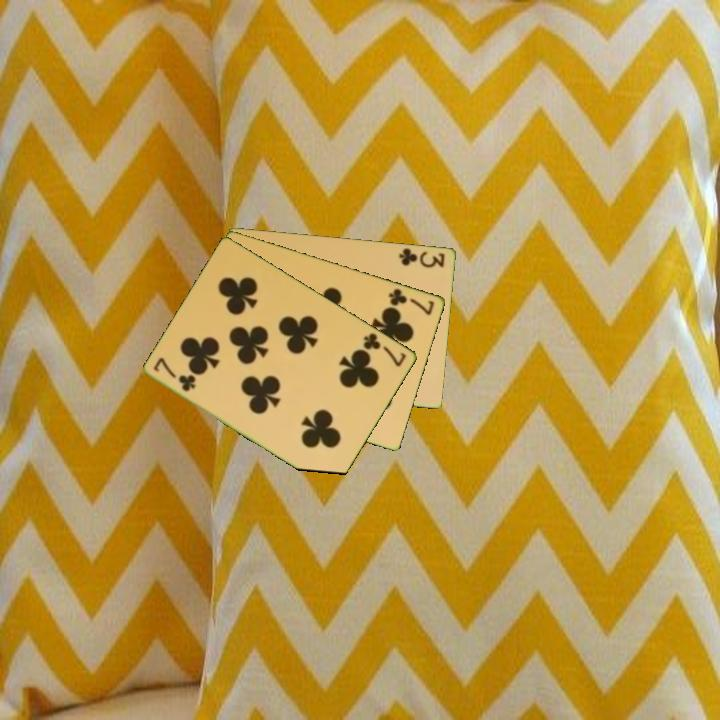3c: (396, 244, 448, 270)
7c: (360, 329, 410, 370), (151, 354, 199, 395), (385, 285, 437, 318)
